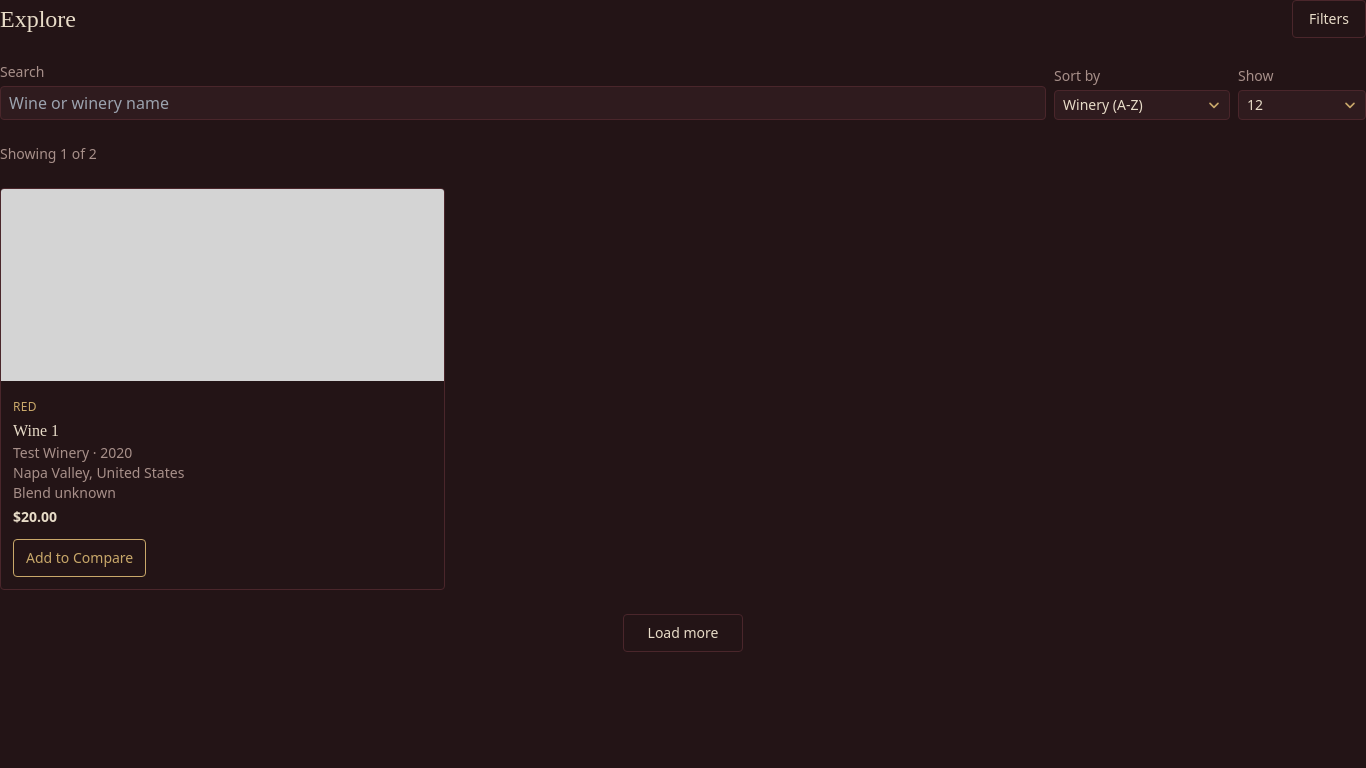
Test: ExplorePage › ignores a stale load-more rejection after filters change
Expected: the link "Wine 1" is shown, top-left (13, 422), bottom-right (59, 439)
Click the button "Load more" at {"x": 683, "y": 633}, box top-left (623, 614), bottom-right (744, 652)
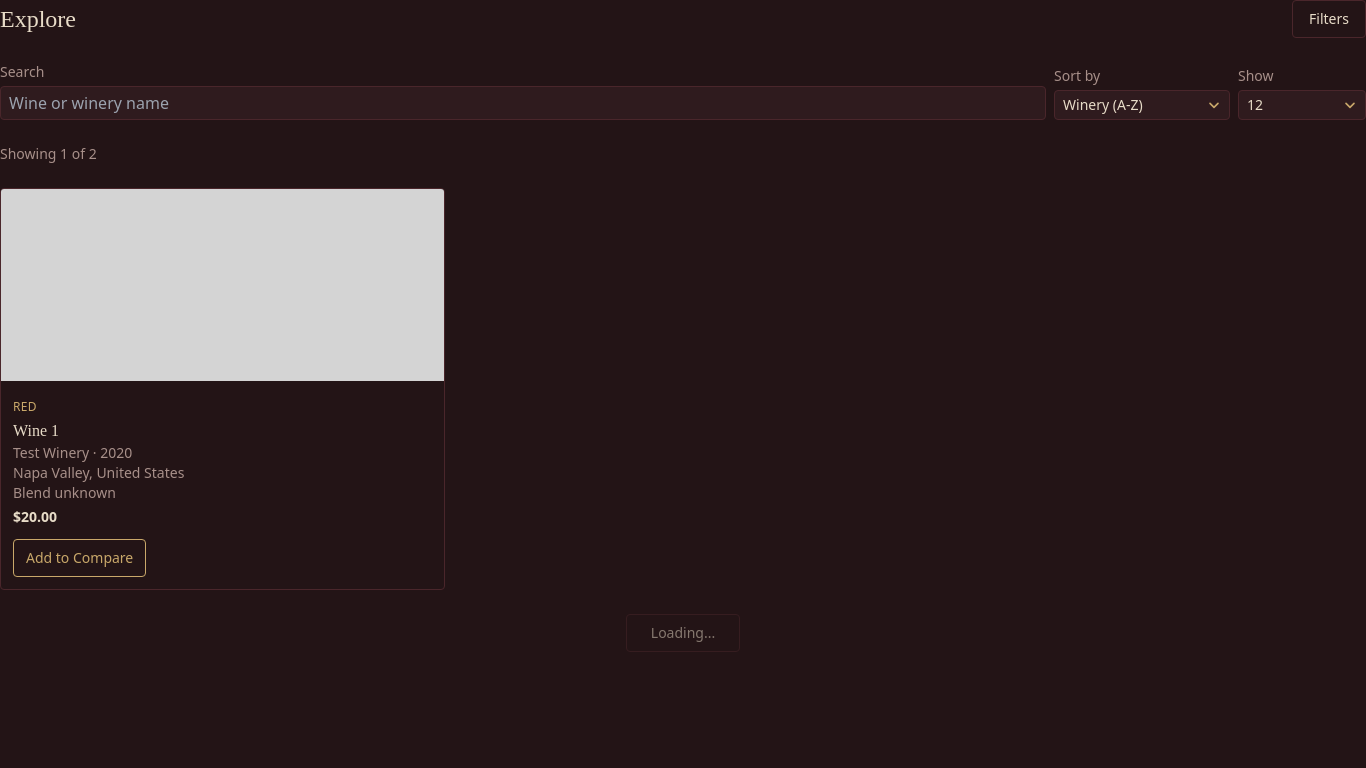
Click the button "Filters" at {"x": 1329, "y": 19}, box top-left (1292, 0), bottom-right (1365, 38)
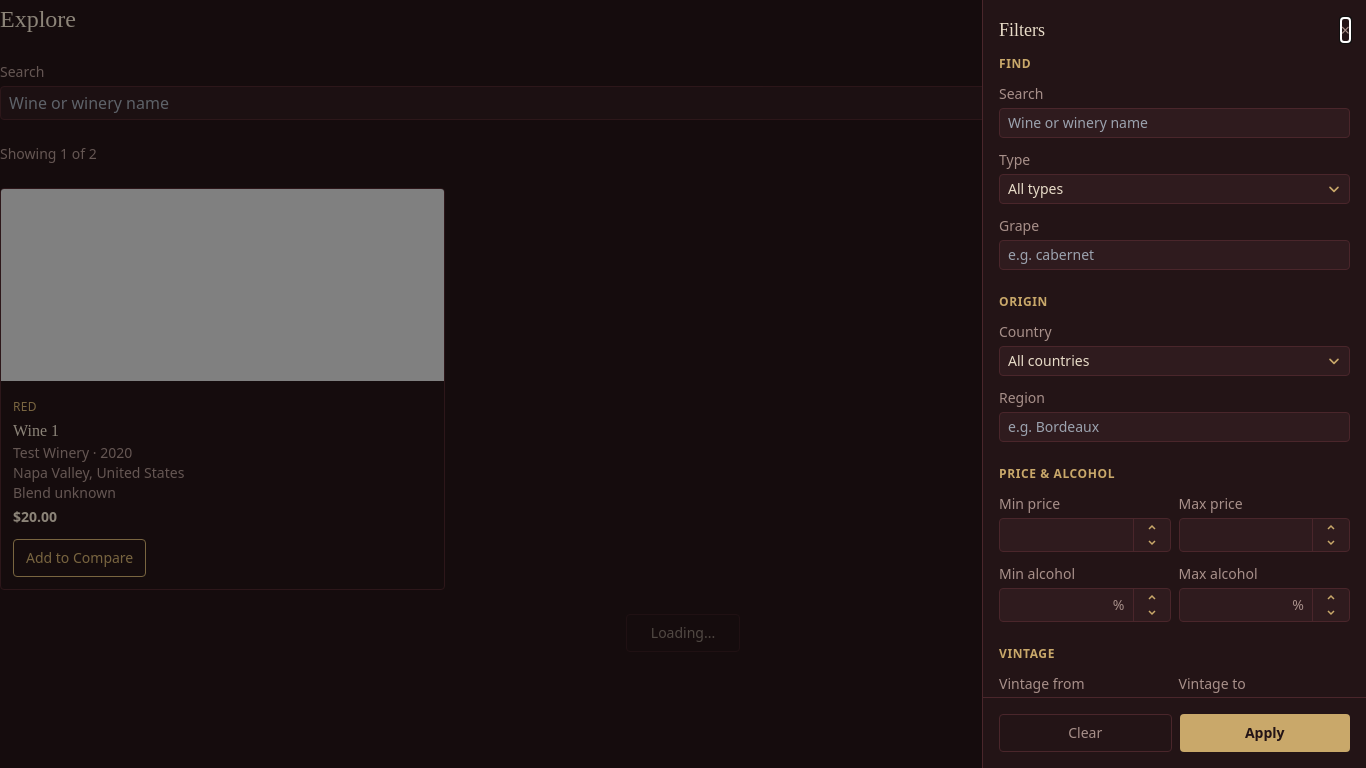
Click the dropdown labelled "Type" at {"x": 1174, "y": 189}, box top-left (999, 174), bottom-right (1350, 204)
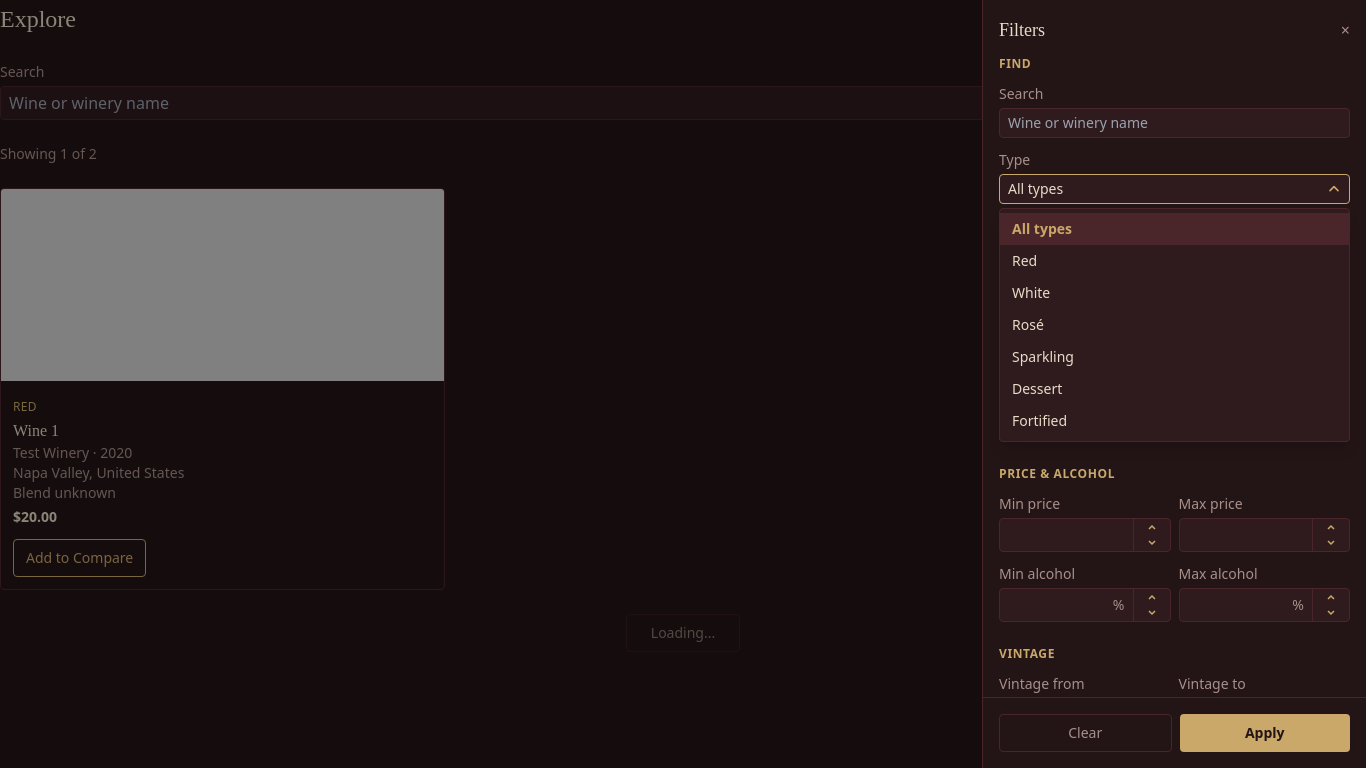
Click the option "White" at {"x": 1031, "y": 292}, box top-left (1012, 283), bottom-right (1050, 302)
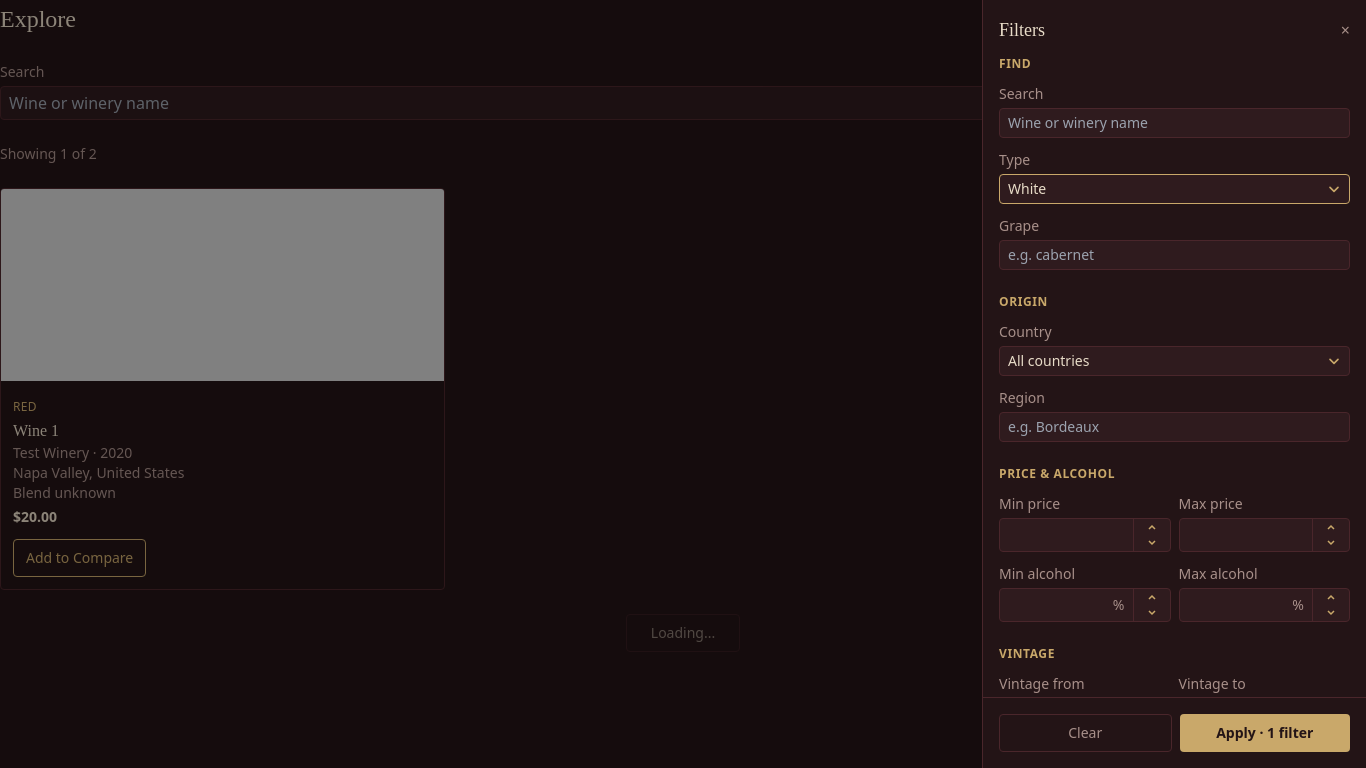
Click the button "Apply · 1 filter" at {"x": 1265, "y": 733}, box top-left (1180, 714), bottom-right (1350, 752)
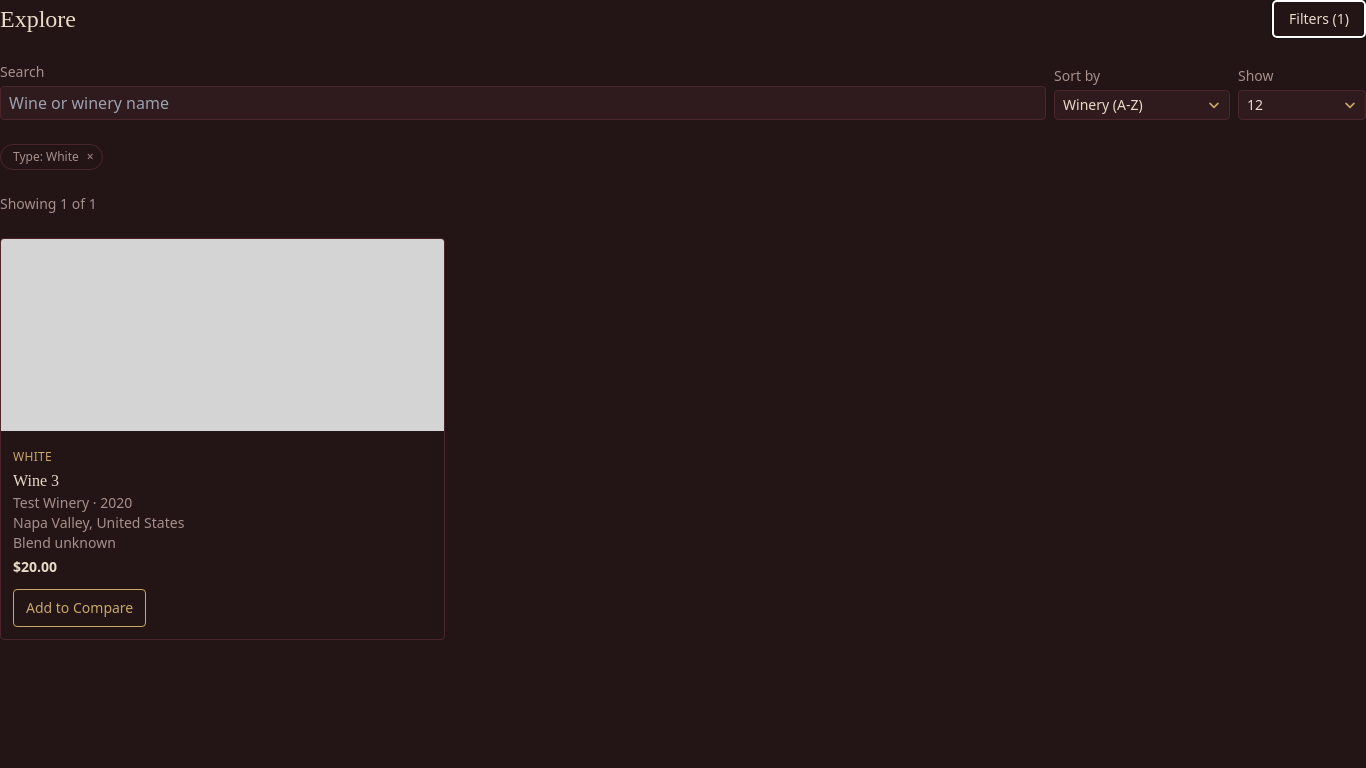
Now the link "Wine 3" is shown, box top-left (13, 472), bottom-right (59, 489)
Now the button "Loading..." is gone
